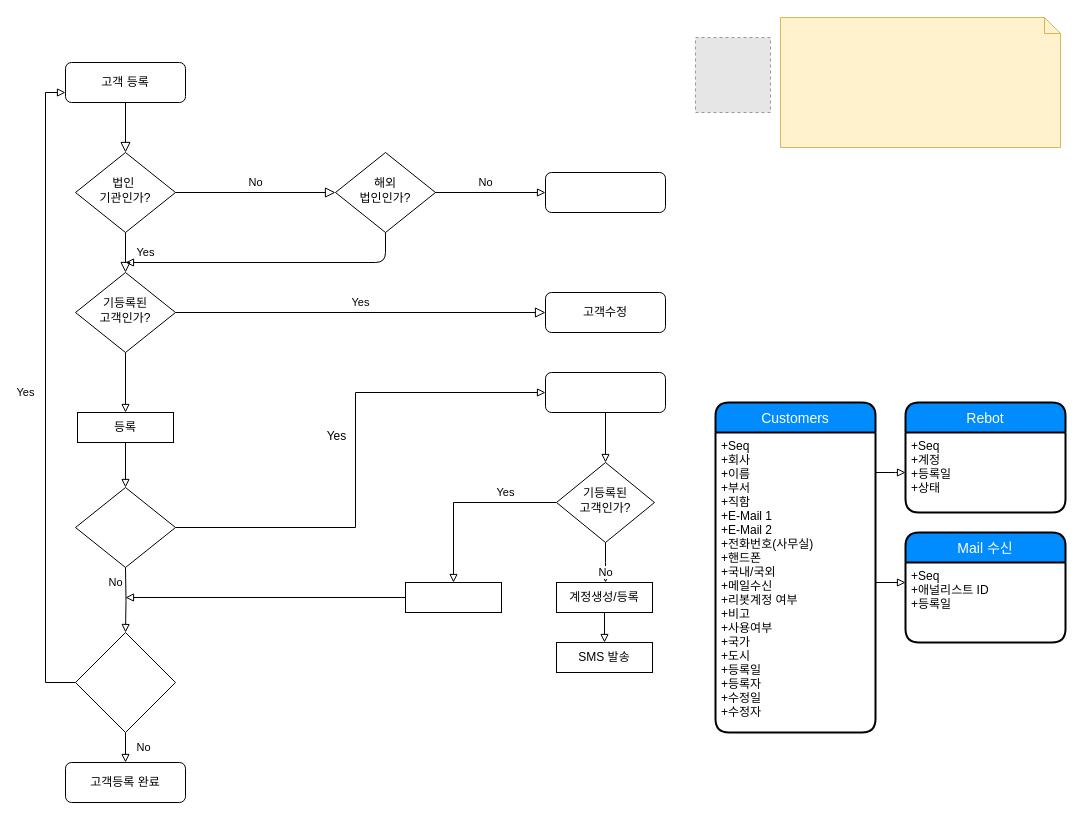
This 1083x820 diagram has some shape labels left out. Grey dashed boxes stand in for pictures. Here are the shapes that lost their labels. From the top down, the centre of each, then its label:
point 920,82: 고객 등록 1. 기본적인 고객정보 등록 2. 리서치 리포트 메일 수신 선택 3. 리봇 계정 생성
point 605,192: 등록불가
point 605,392: 계정생성 및 알림전송
point 125,527: 리봇 계정 생성하는가?
point 453,597: 메세지 알림
point 125,682: 추가 등록하는가?
